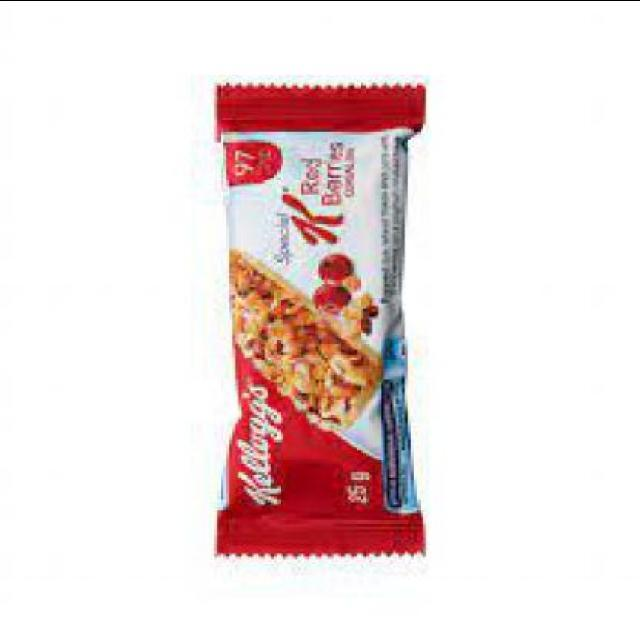Cereal bar: (202, 70, 440, 566)
